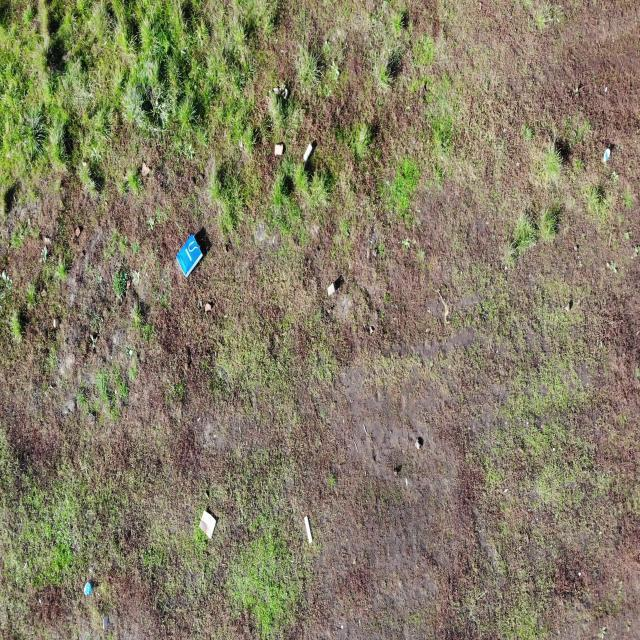rubbish: (175, 231, 204, 278), (197, 511, 218, 541), (303, 515, 314, 545), (302, 139, 314, 163), (82, 580, 93, 598), (601, 147, 612, 164), (326, 282, 337, 297), (274, 143, 284, 157)
